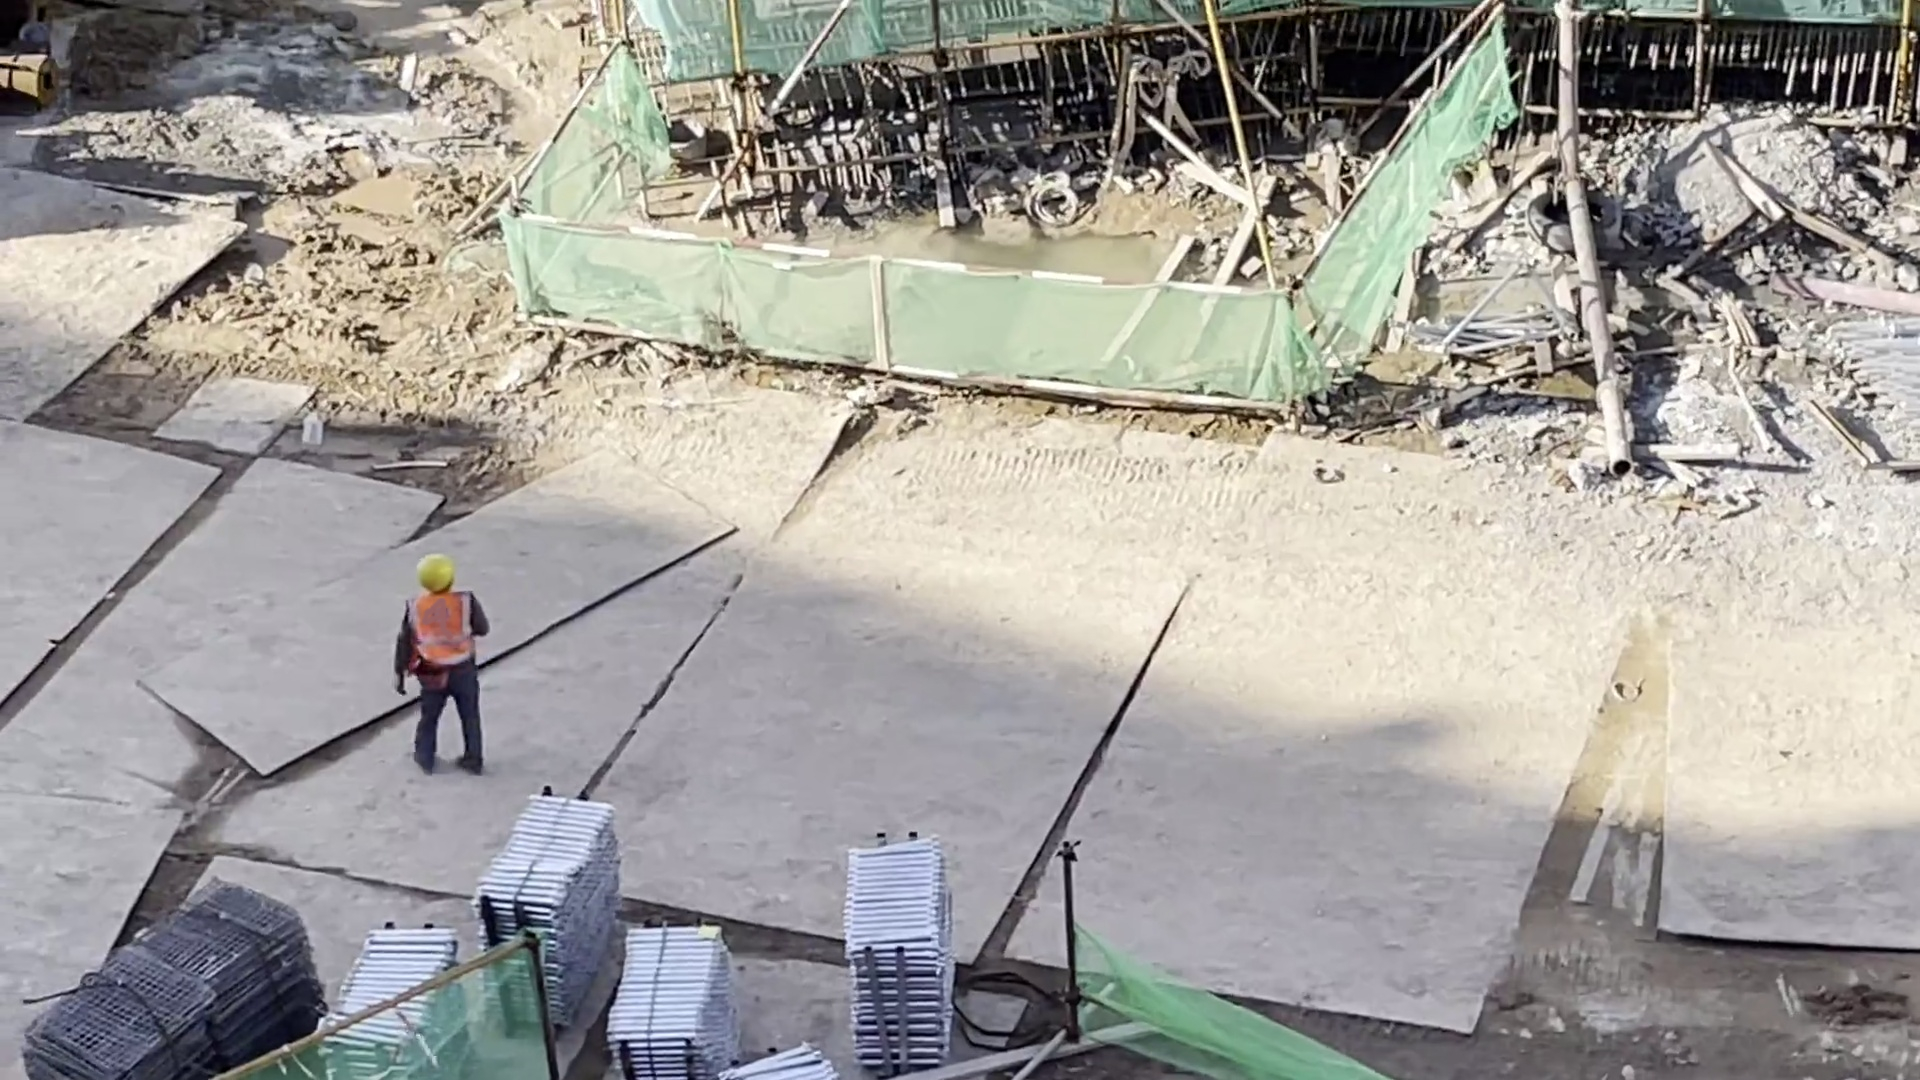helmet: (412, 549, 462, 597)
person: (385, 553, 515, 774)
scaffold: (462, 780, 637, 1042), (824, 824, 968, 1080), (307, 906, 462, 1080), (607, 924, 748, 1080)
vest: (400, 591, 485, 680)
